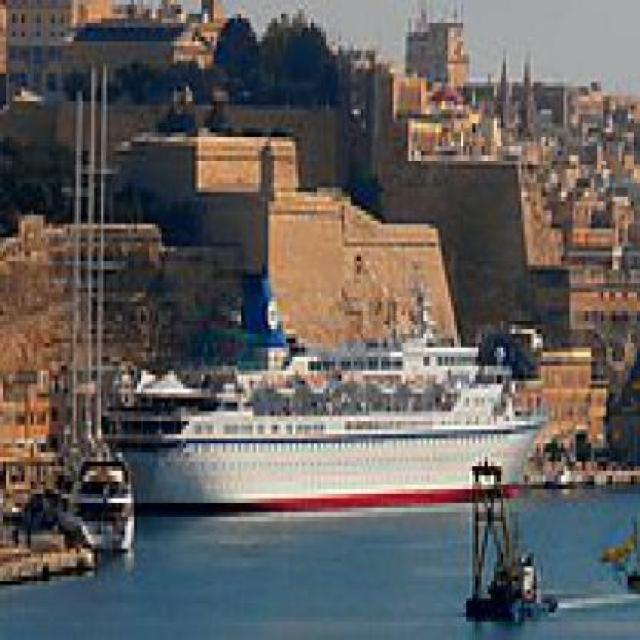cruise: (99, 317, 556, 523)
